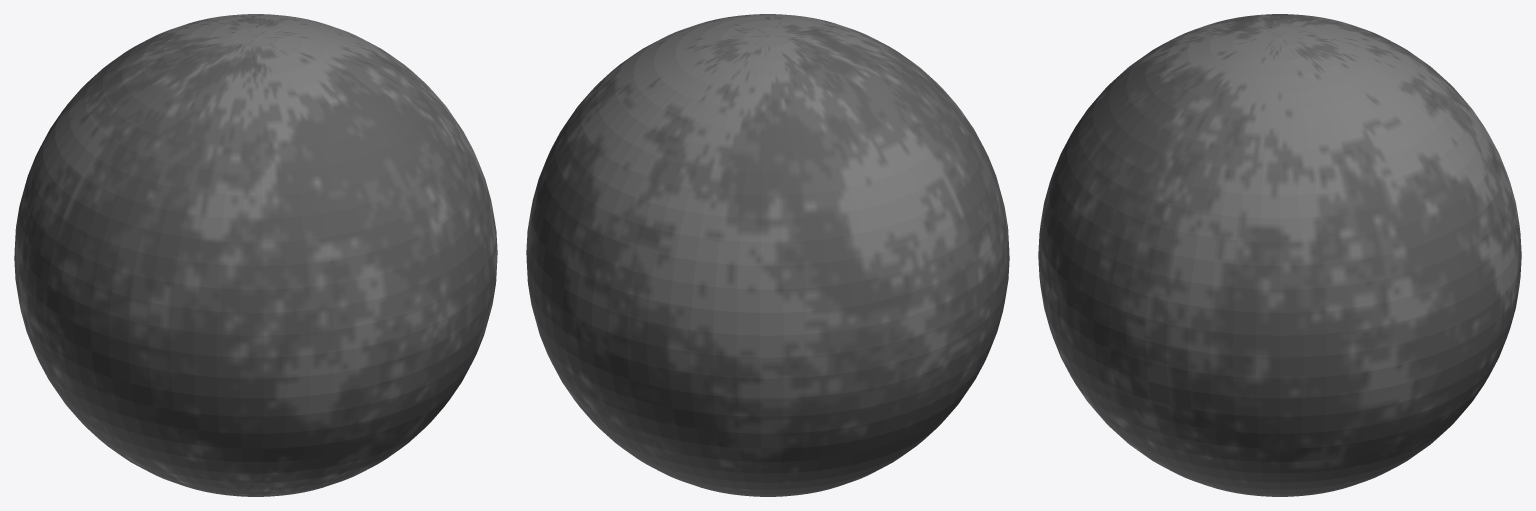
Rendered from mercury2.obj.
3 renders of one model, left to right at view 1: azimuth 30°, elevation 25°; view 2: azimuth 150°, elevation 25°; view 3: azimuth 270°, elevation 25°, orthographic.
Visible parts, largest first — view 1: Sphere; view 2: Sphere; view 3: Sphere.
Part boxes in pixels (x1,y1,x2,y2): Sphere: (14, 14, 497, 496); Sphere: (526, 14, 1009, 496); Sphere: (1038, 14, 1521, 496).
Size of the model in its own units: 2 by 2 by 2.
1 material, 1 textured.
